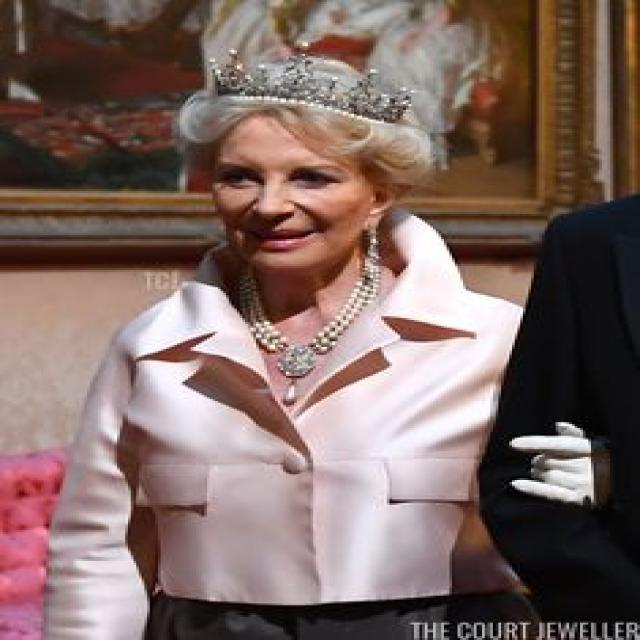Earring: (358, 206, 389, 278)
